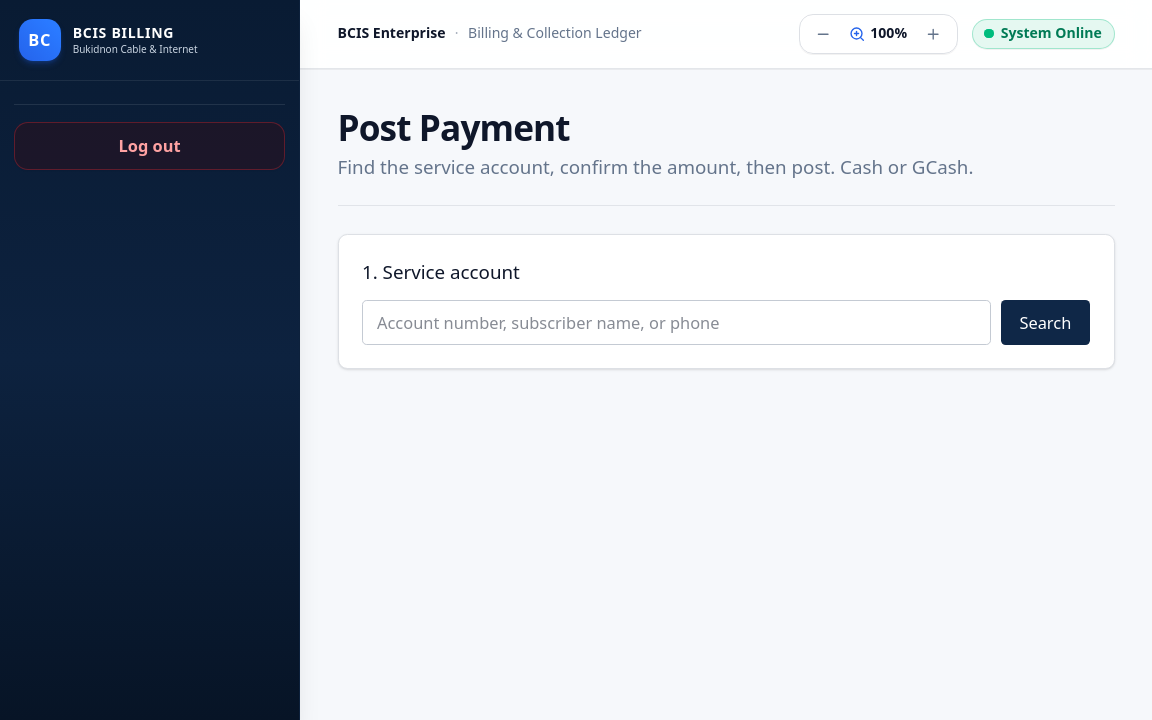
PostPaymentPage › offers every payment method the API accepts, under its own label
Type "Dela Cruz" into the field with placeholder "Account number, subscriber name, or phone" at {"x": 677, "y": 322}, box [362,300,991,344]
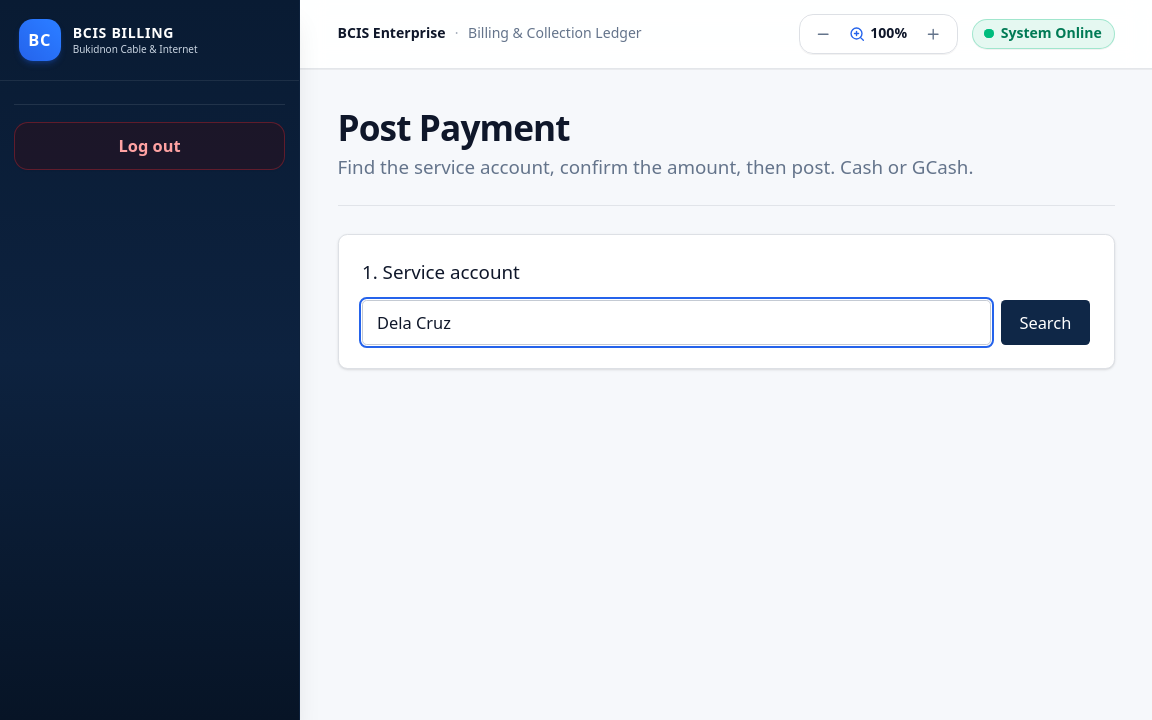
Click the button "Search" at {"x": 1045, "y": 322}, box [1001,300,1090,344]
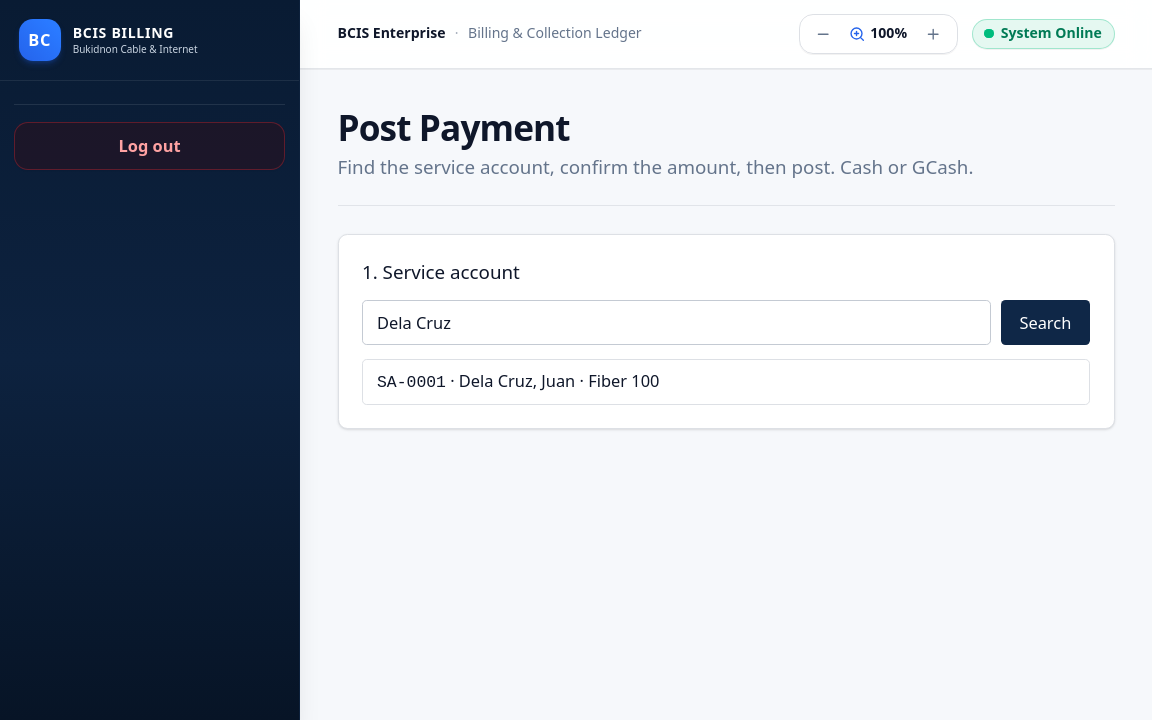
Click the button "SA-0001 · Dela Cruz, Juan · Fiber 100" at {"x": 411, "y": 382}, box [363,360,1089,404]
(page scrolled)
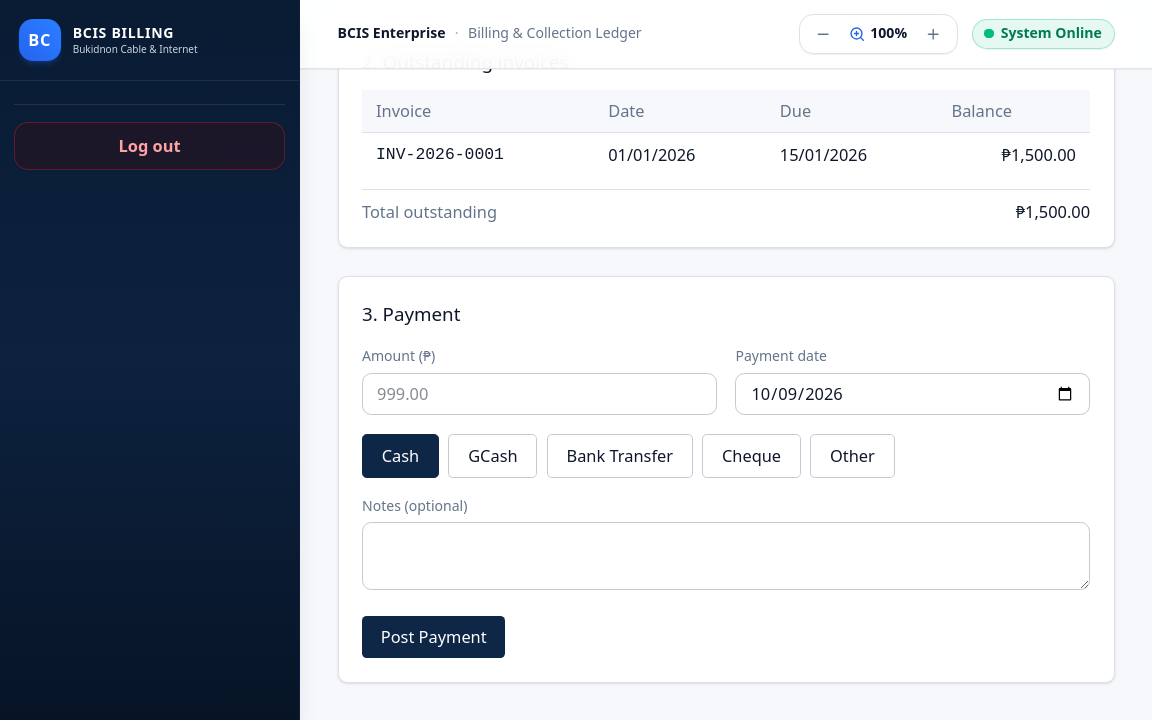
Now the heading "3. Payment" is shown, box [362,301,460,326]
Now the button "Bank Transfer" is shown, box [547,434,693,478]
Now the button "Cheque" is shown, box [702,434,801,478]
